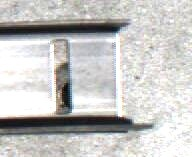40ngpress: (17, 20, 134, 129)
